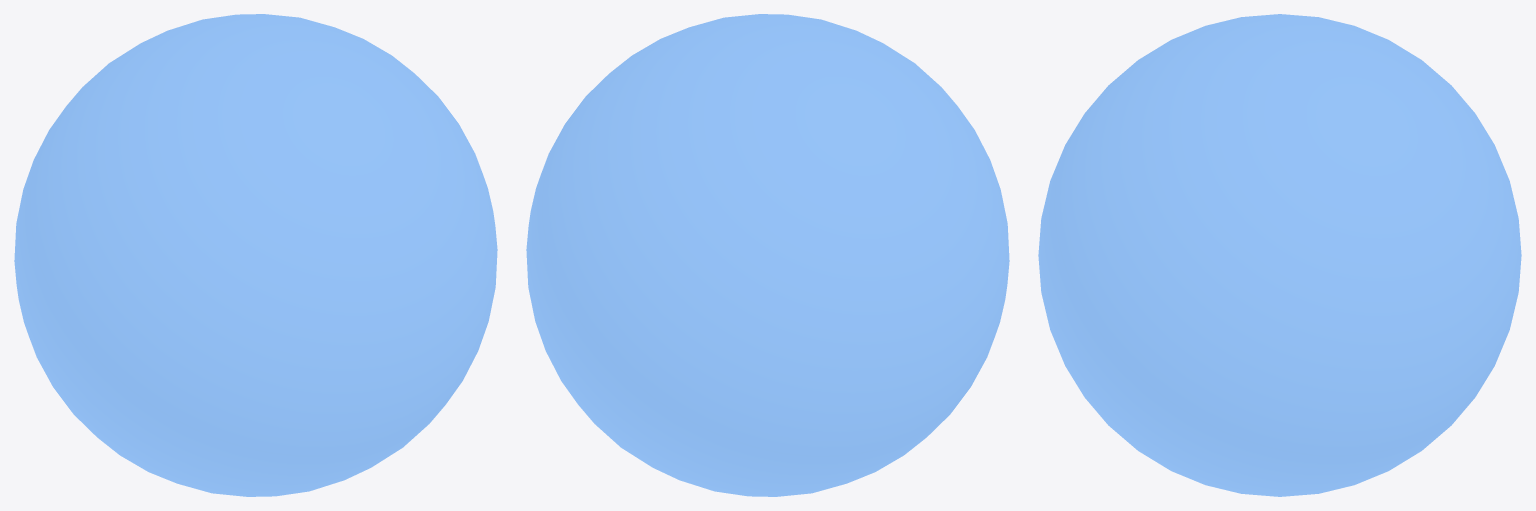
The model's file is ENV_Planet_EarthLike_01.glb.
3 renders of one model, left to right at view 1: azimuth 30°, elevation 25°; view 2: azimuth 150°, elevation 25°; view 3: azimuth 270°, elevation 25°, orthographic.
Visible parts, largest first — view 1: ENV_Planet_EarthLike_01_Atmosphere; view 2: ENV_Planet_EarthLike_01_Atmosphere; view 3: ENV_Planet_EarthLike_01_Atmosphere.
Part boxes in pixels (x1,y1,x2,y2): ENV_Planet_EarthLike_01_Atmosphere: (14,14,497,496); ENV_Planet_EarthLike_01_Atmosphere: (526,14,1009,496); ENV_Planet_EarthLike_01_Atmosphere: (1038,14,1521,496).
Size of what is drawn, in the model's own units: 1254 by 1254 by 1254.
